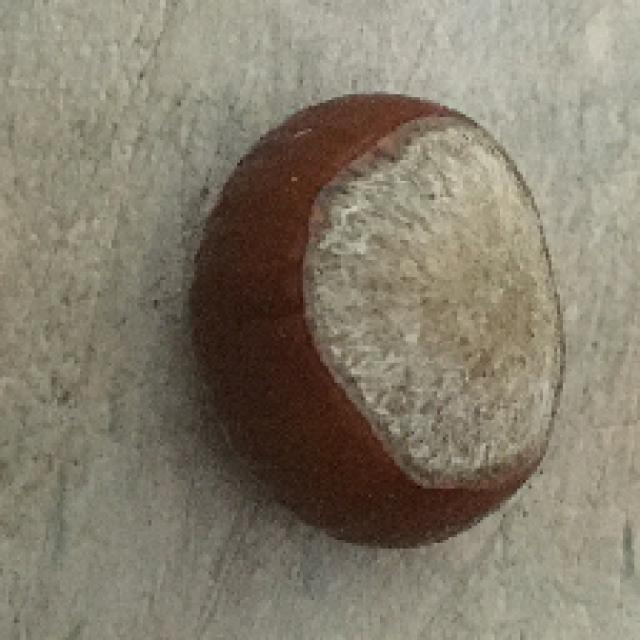qualityHazelnut: (187, 86, 563, 550)
